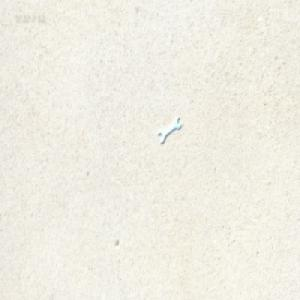Wrench: (157, 115, 179, 144)
